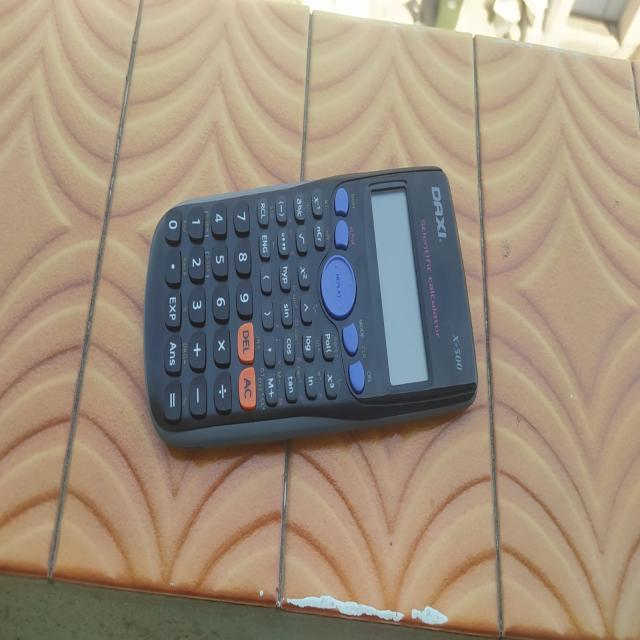Calculator: (142, 165, 480, 455)
